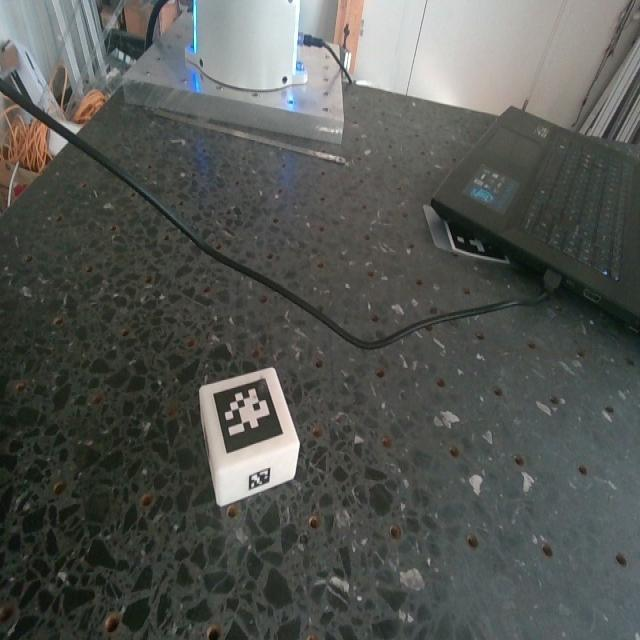Cube: (197, 365, 305, 508)
